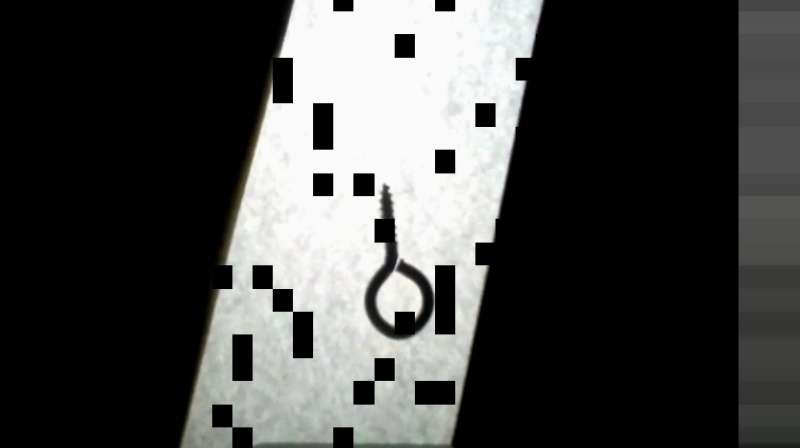O001: (360, 180, 438, 342)
